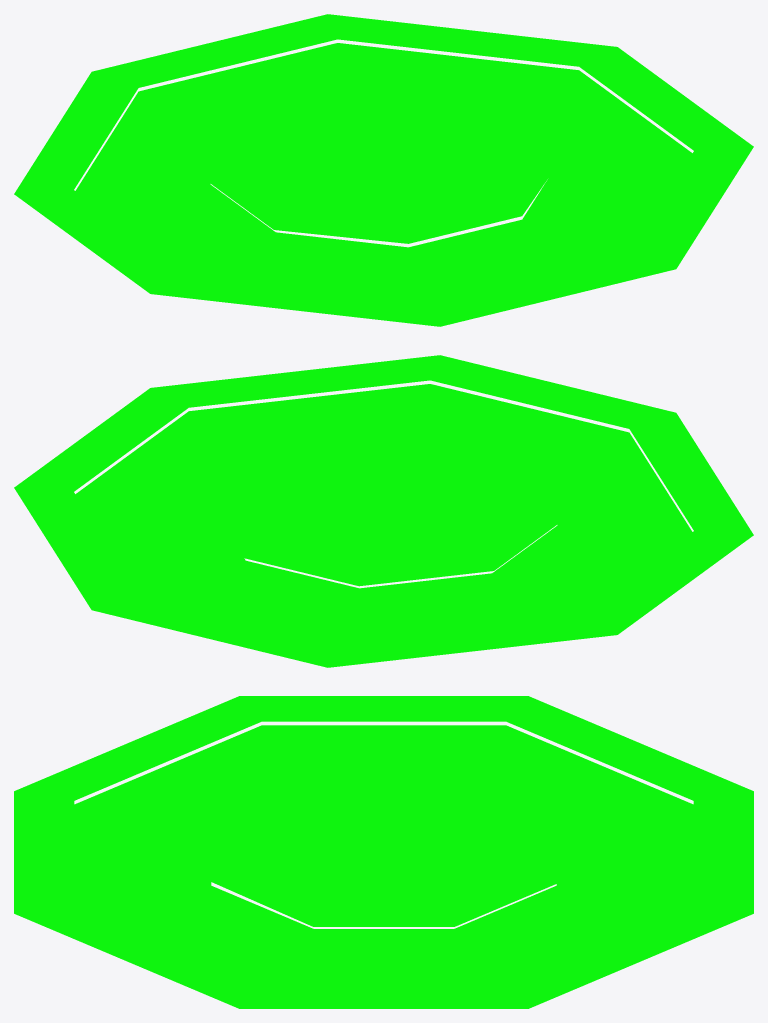
Rendered from s04z_na1-floor.glb.
3 renders of one model, top to bottom at view 1: azimuth 30°, elevation 25°; view 2: azimuth 150°, elevation 25°; view 3: azimuth 270°, elevation 25°, orthographic. The views are drawn at different scales.
Visible parts, largest first — view 1: collision_floor-colonly; view 2: collision_floor-colonly; view 3: collision_floor-colonly.
Boxes of the visible parts, bbox=[...] form: collision_floor-colonly: bbox=[14, 14, 753, 326]; collision_floor-colonly: bbox=[14, 355, 753, 667]; collision_floor-colonly: bbox=[14, 696, 753, 1008].
Size of the model in its own units: 46 by 0.25 by 46.
